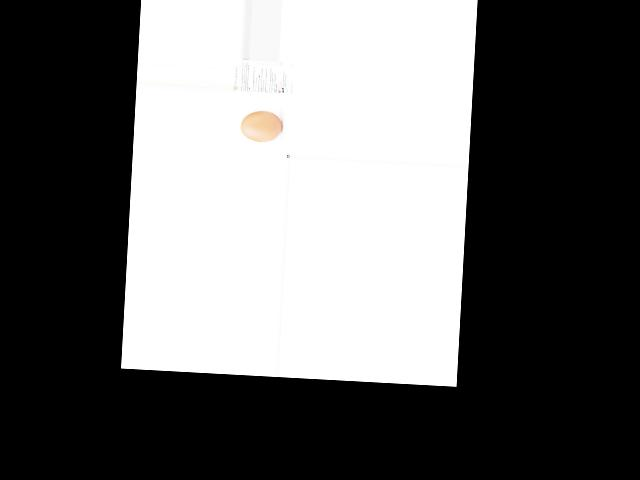egg: (240, 109, 282, 142)
